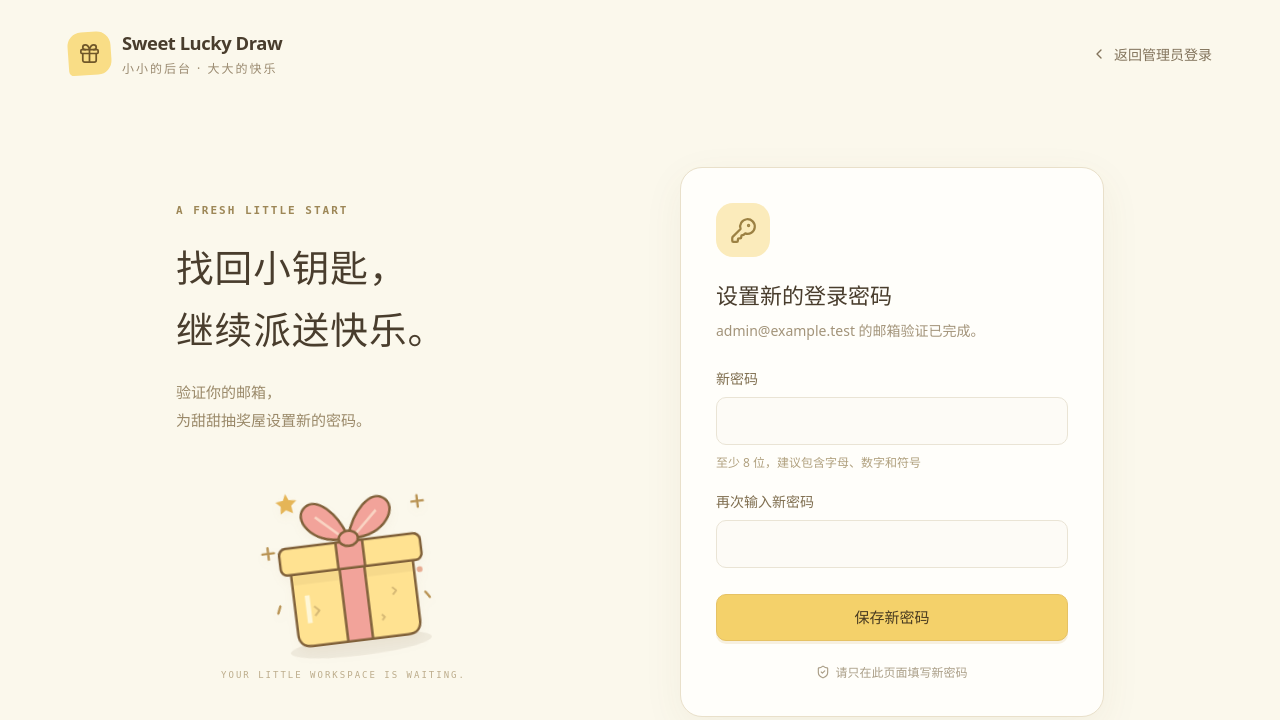
Test: password recovery › updates the current account only, clears the form, and requires a new login
Type "example-password-1" into the password field labelled "新密码".
click(892, 421); type("example-password-1")  # box [716,397,1068,445]
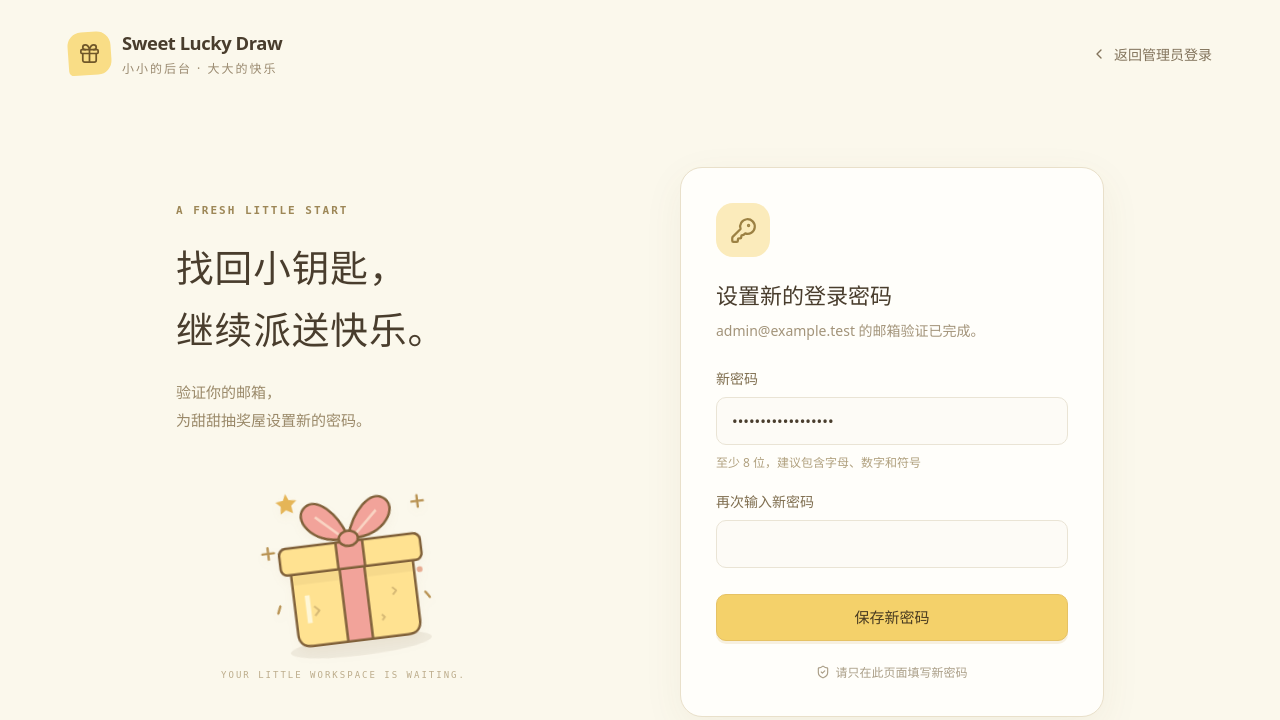
Type "example-password-1" into the password field labelled "再次输入新密码".
click(892, 544); type("example-password-1")  # box [716,520,1068,568]
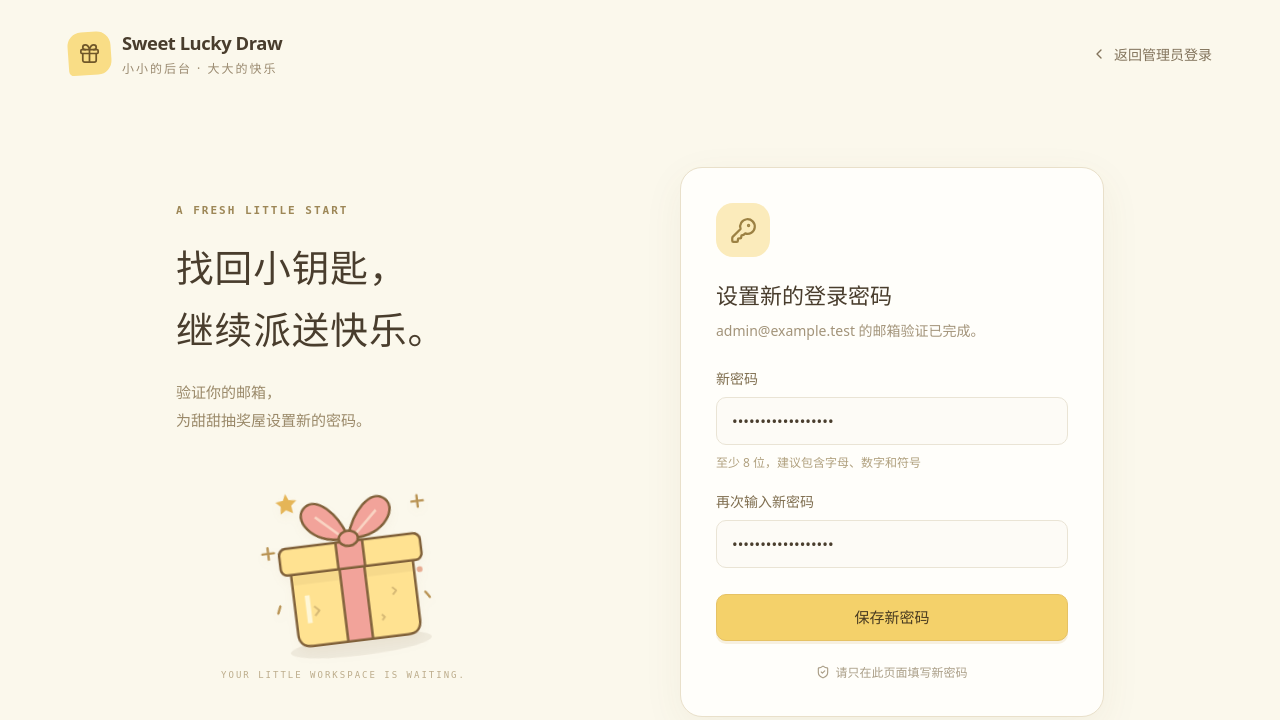
Click the button "保存新密码".
click(892, 618)  # box [716,594,1068,641]
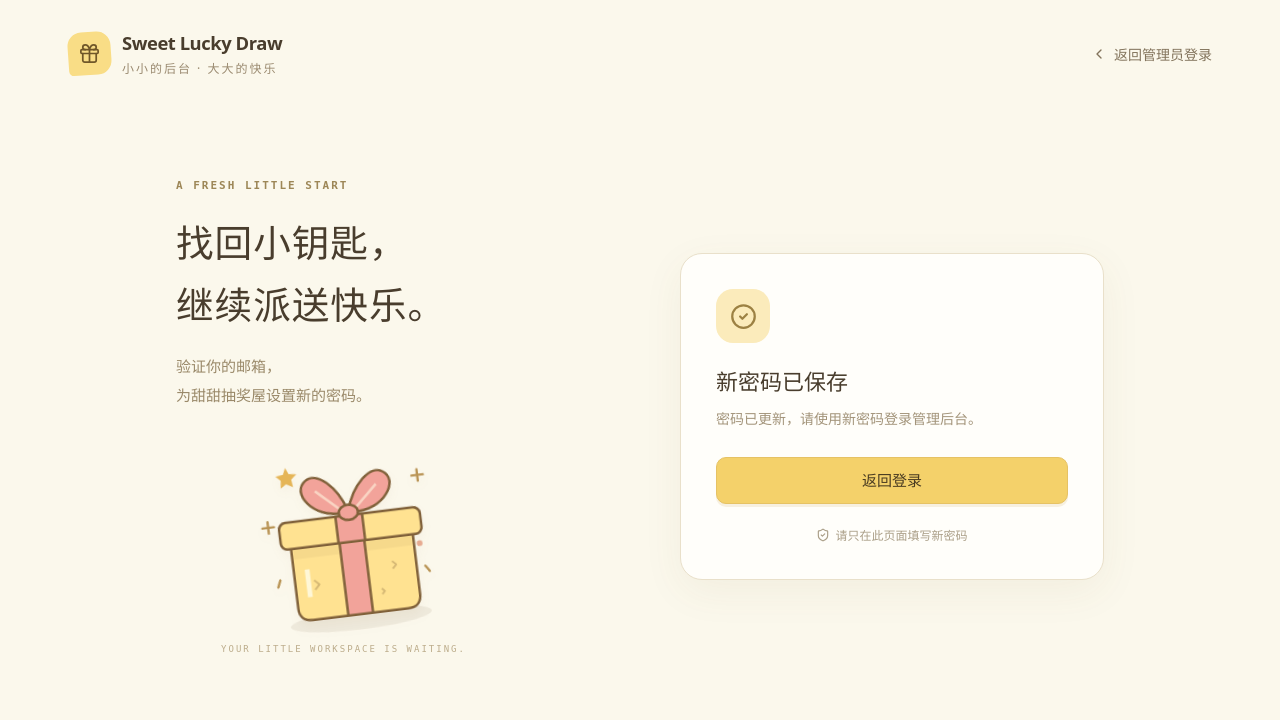
Result: the heading "新密码已保存" is shown at [716,366,848,396]
